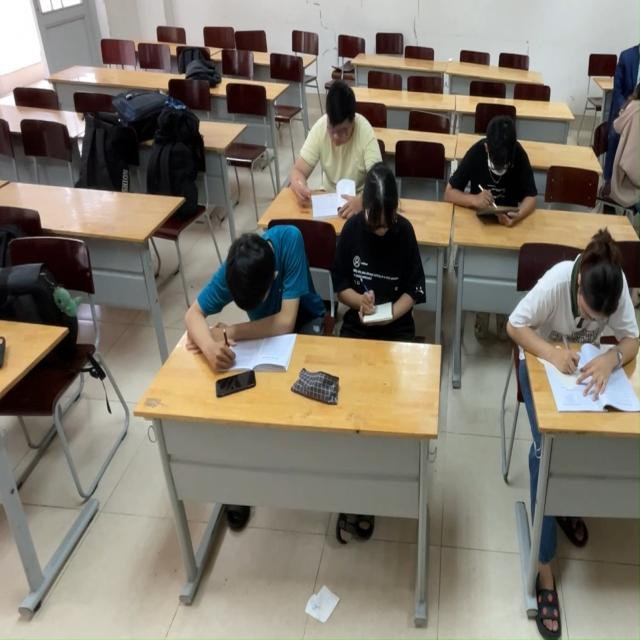read: (504, 227, 640, 432), (325, 161, 437, 357), (179, 221, 312, 382), (441, 113, 547, 234), (289, 80, 385, 193)
